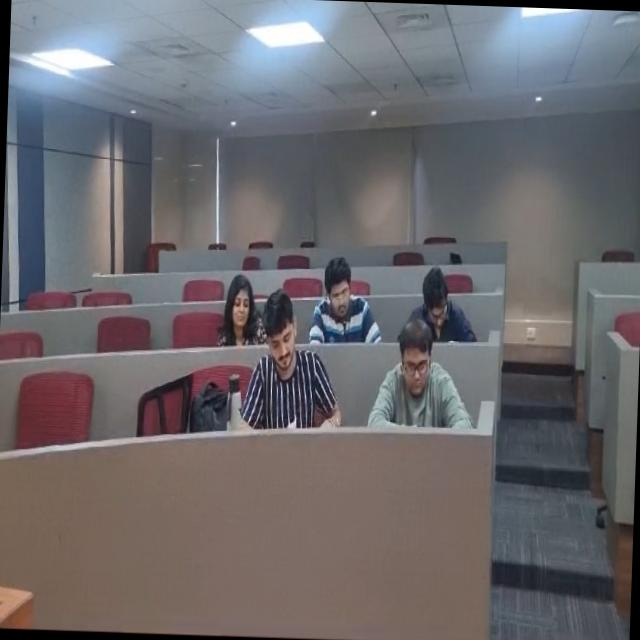cheating: (402, 258, 478, 342)
non-cheating: (369, 324, 465, 434), (248, 288, 320, 428), (304, 251, 385, 349), (213, 271, 266, 348)
